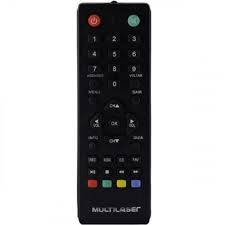remote control: (75, 4, 155, 225)
